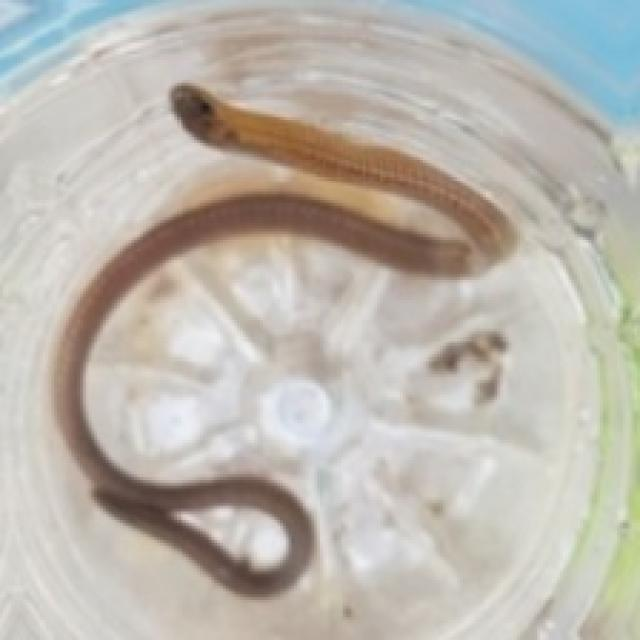gervais worm snake: (54, 83, 514, 594)
